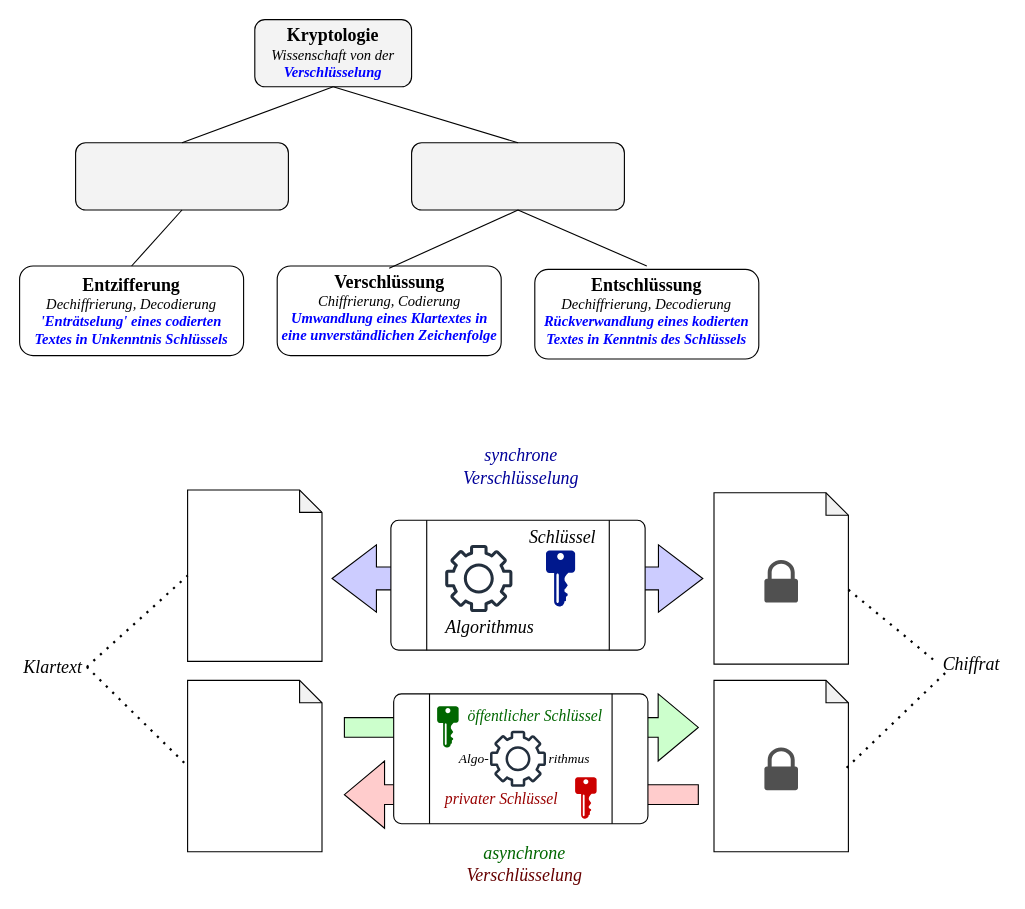
The diagram is 1025 pixels wide and 909 high, and some of its shapes have lost their labels. Here are the shapes that lost their labels. From the top down, the centre of each, then its label:
At point (181, 176): "Krypt(o)analyse Wissenschaft von der Entzifferung von Geheimtexten".
At point (517, 176): "Kryptographie Wissenschaft der Verschlüsselungstechniken".
